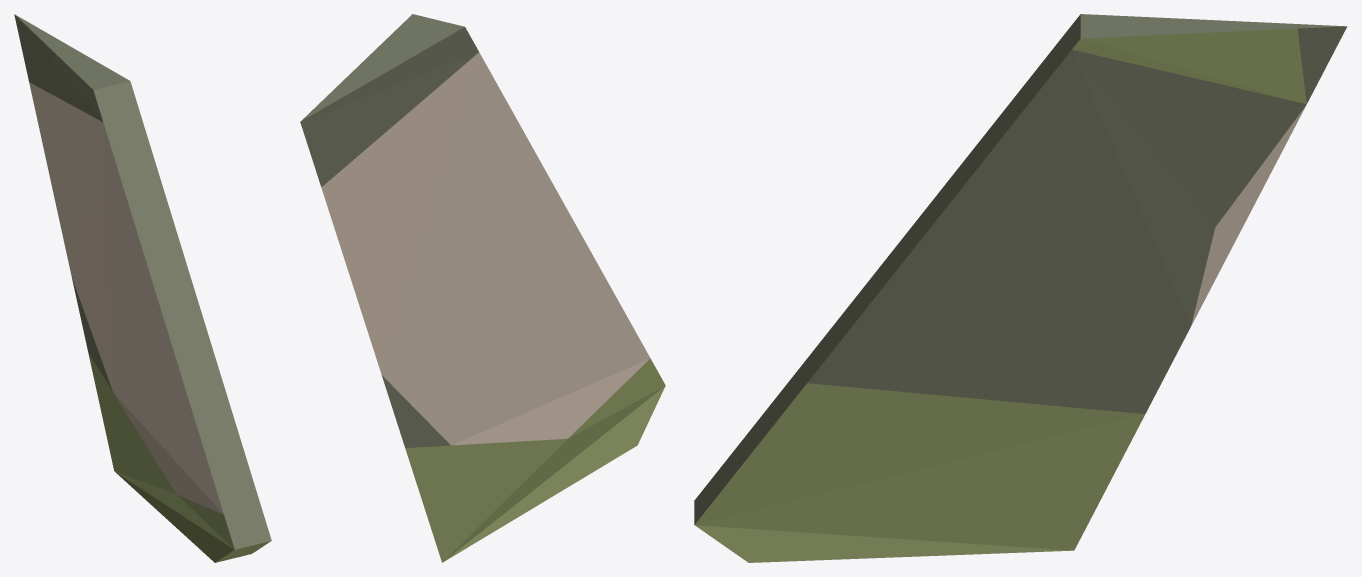
Rendered from cold_war_planes_mirage_5ba_2nd_surf_rudder.gltf.
The picture shows the model from 3 angles, left to right: view 1: azimuth 30°, elevation 25°; view 2: azimuth 150°, elevation 25°; view 3: azimuth 270°, elevation 25°; orthographic projection. The views are drawn at different scales.
Parts seen in each view (by area): view 1: 0_2_#b59679, 0_0_#2e3221, 0_1_#526226; view 2: 0_2_#b59679, 0_1_#526226, 0_0_#2e3221; view 3: 0_0_#2e3221, 0_1_#526226, 0_2_#b59679.
Boxes of the visible parts, bbox=[...] form: 0_2_#b59679: bbox=[29, 82, 223, 514]; 0_0_#2e3221: bbox=[14, 14, 271, 549]; 0_1_#526226: bbox=[88, 353, 270, 562]; 0_2_#b59679: bbox=[321, 52, 650, 445]; 0_1_#526226: bbox=[405, 358, 665, 562]; 0_0_#2e3221: bbox=[300, 14, 478, 447]; 0_0_#2e3221: bbox=[694, 14, 1347, 524]; 0_1_#526226: bbox=[694, 28, 1306, 562]; 0_2_#b59679: bbox=[1191, 106, 1305, 325].
Bounding box in the file's own units: 0.0984 × 0.9766 × 1.1.
